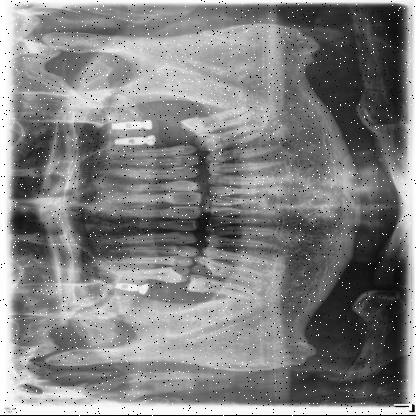Bicon: (104, 119, 142, 136), (108, 280, 140, 298), (108, 138, 146, 148)
